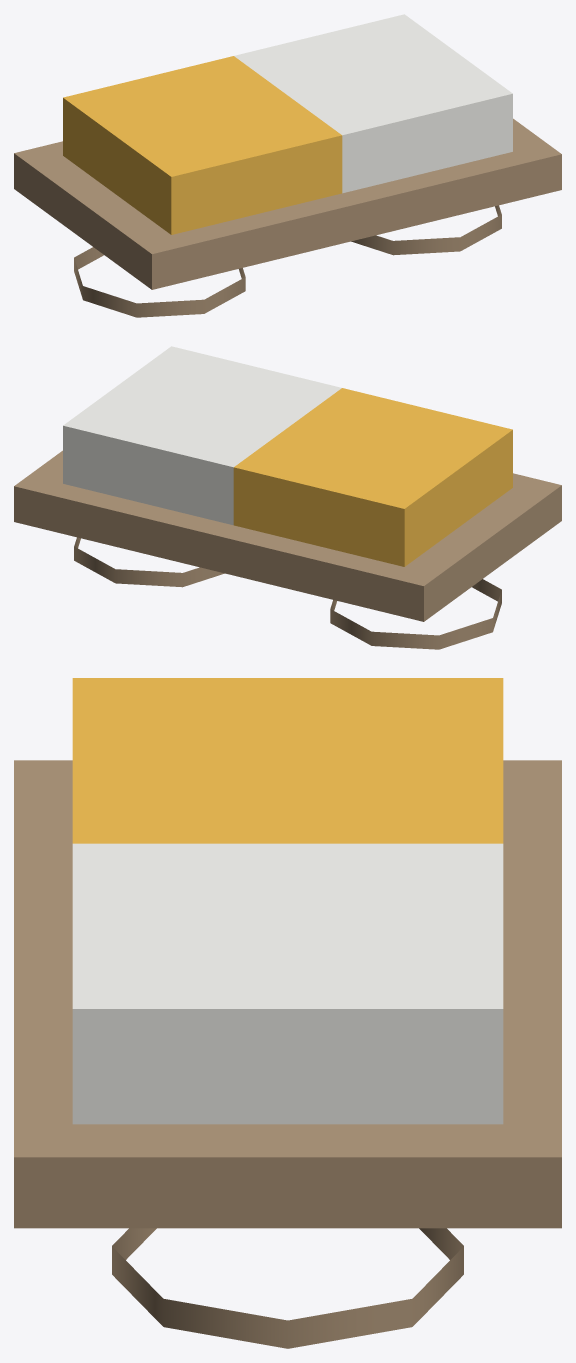
Rendered from flower_cart.glb.
The picture shows the model from 3 angles, top to bottom: view 1: azimuth 30°, elevation 25°; view 2: azimuth 150°, elevation 25°; view 3: azimuth 270°, elevation 25°; orthographic projection. The views are drawn at different scales.
Parts seen in each view (by area): view 1: MarigoldHeap_Node, CartBed_Node, JasmineHeap_Node, Wheel_L_Node, Wheel_R_Node; view 2: MarigoldHeap_Node, CartBed_Node, JasmineHeap_Node, Wheel_L_Node, Wheel_R_Node; view 3: JasmineHeap_Node, CartBed_Node, MarigoldHeap_Node, Wheel_R_Node.
Part boxes in pixels (x1,y1,x2,y2): MarigoldHeap_Node: [63, 56, 342, 234]; CartBed_Node: [14, 118, 561, 289]; JasmineHeap_Node: [234, 14, 512, 193]; Wheel_L_Node: [74, 247, 245, 317]; Wheel_R_Node: [351, 205, 501, 255]; MarigoldHeap_Node: [233, 388, 512, 566]; CartBed_Node: [14, 450, 561, 621]; JasmineHeap_Node: [63, 346, 341, 525]; Wheel_L_Node: [330, 579, 501, 649]; Wheel_R_Node: [74, 537, 224, 587]; JasmineHeap_Node: [72, 843, 503, 1124]; CartBed_Node: [14, 760, 561, 1228]; MarigoldHeap_Node: [72, 678, 503, 843]; Wheel_R_Node: [112, 1228, 463, 1348].
Size of the model in its own units: 2.4 by 0.865 by 1.4.
